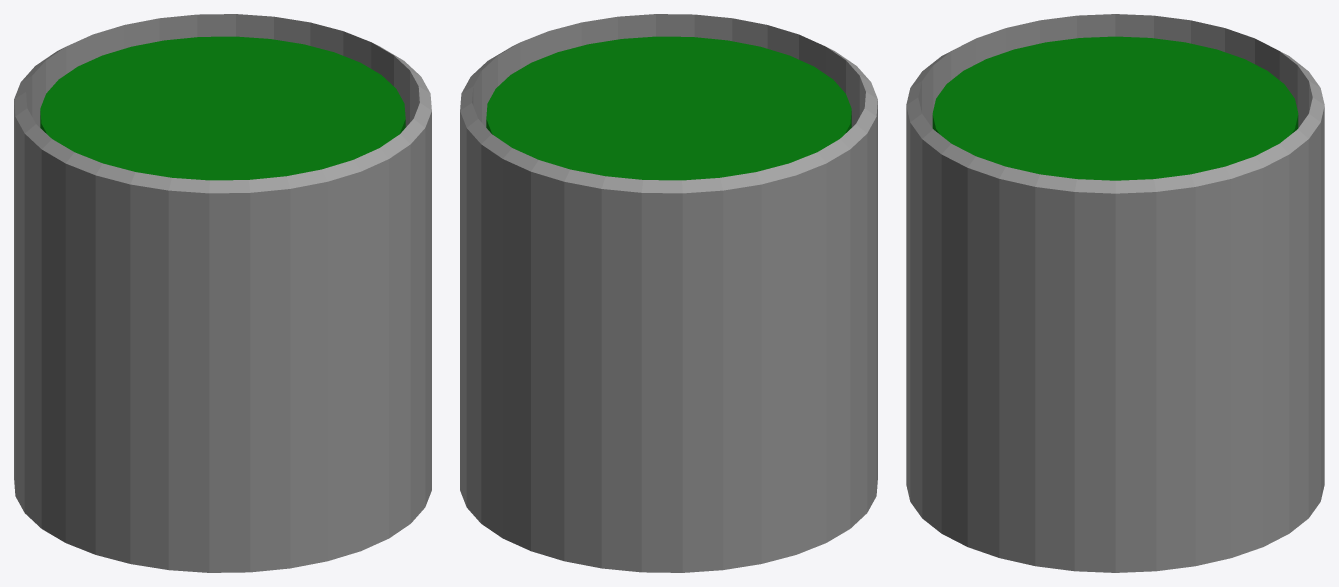
Rendered from BucketGreen.fbx.
3 renders of one model, left to right at view 1: azimuth 30°, elevation 25°; view 2: azimuth 150°, elevation 25°; view 3: azimuth 270°, elevation 25°, orthographic.
Parts seen in each view (by area): view 1: BucketGreen, BucketGreenPaint; view 2: BucketGreen, BucketGreenPaint; view 3: BucketGreen, BucketGreenPaint.
Part boxes in pixels (x1,y1,x2,y2): BucketGreen: (14,14,431,572); BucketGreenPaint: (40,36,405,180); BucketGreen: (460,14,877,572); BucketGreenPaint: (486,36,851,180); BucketGreen: (906,14,1324,572); BucketGreenPaint: (932,36,1298,180).
Size of the model in its own units: 37.32 by 37.32 by 38.09.
